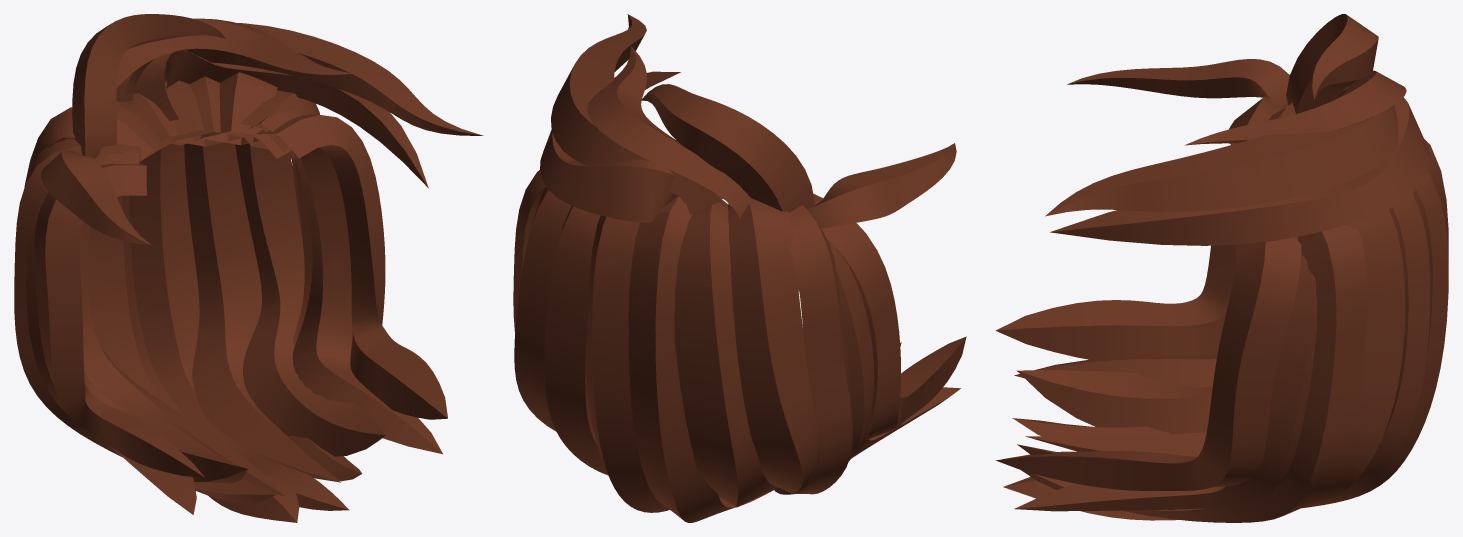
Rendered from Body_008.fbx.
The picture shows the model from 3 angles, left to right: view 1: azimuth 30°, elevation 25°; view 2: azimuth 150°, elevation 25°; view 3: azimuth 270°, elevation 25°; orthographic projection. The views are drawn at different scales.
Visible parts, largest first — view 1: Body.008; view 2: Body.008; view 3: Body.008.
Part boxes in pixels (x1,y1,x2,y2): Body.008: (14, 14, 483, 522); Body.008: (513, 14, 966, 522); Body.008: (995, 14, 1448, 522).
Size of the model in its own units: 97.55 by 114 by 100.
